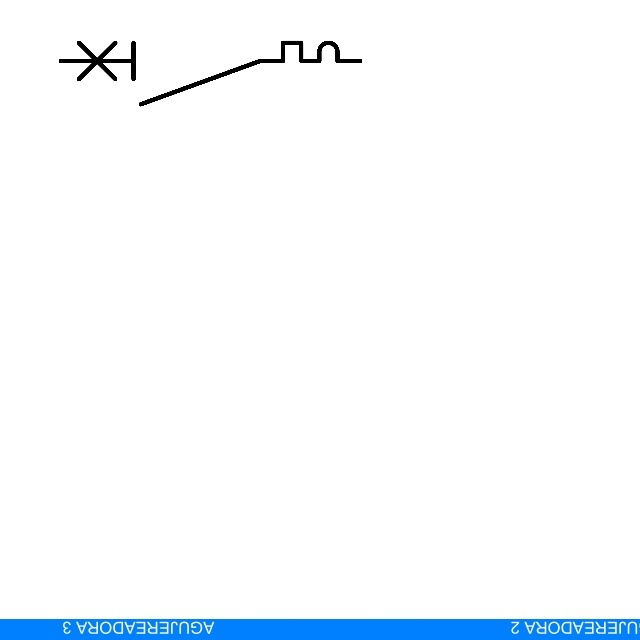interruptor_termomagnetico: (53, 35, 368, 112)
